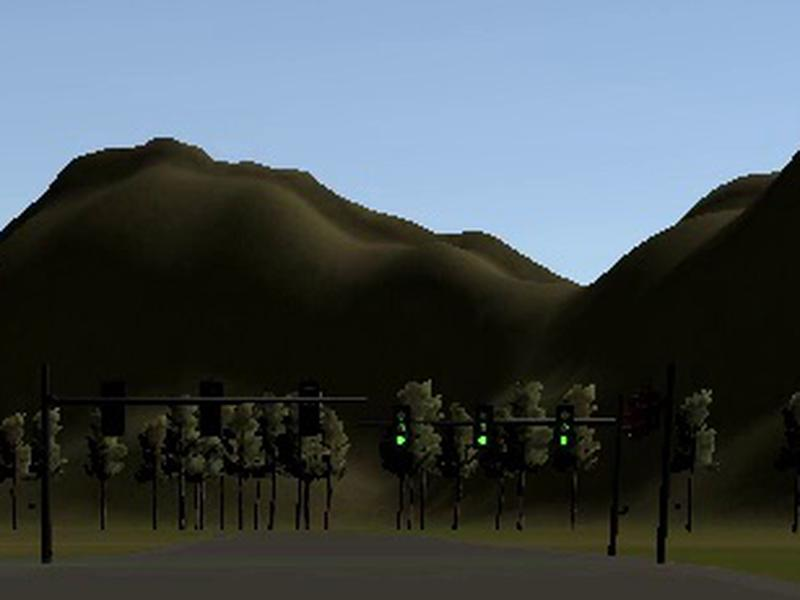Green: (554, 404, 575, 448), (393, 404, 413, 449), (473, 404, 492, 449)
